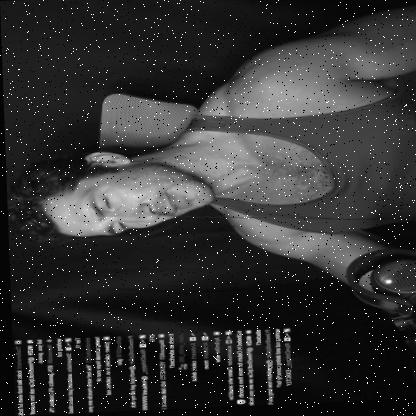streamer: (1, 8, 416, 352)
